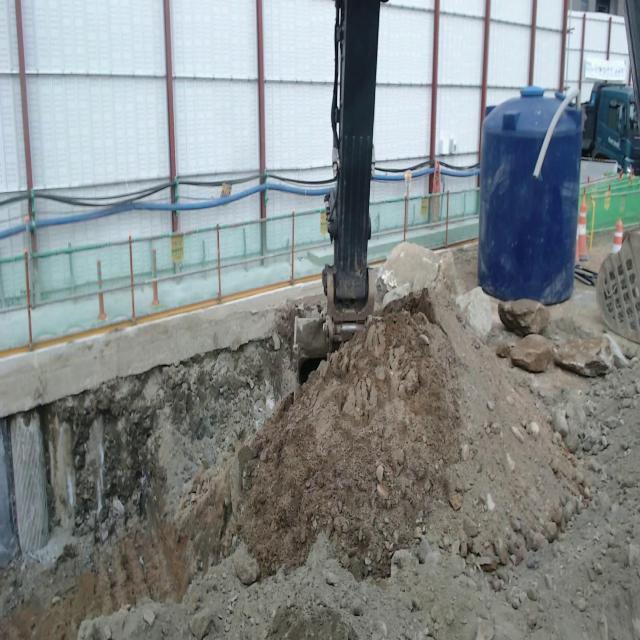red-sand: (0, 290, 590, 639)
stone: (375, 242, 440, 302), (553, 336, 613, 377), (498, 299, 550, 336), (456, 287, 493, 337), (510, 334, 553, 372)
white-sand: (79, 370, 640, 639)
